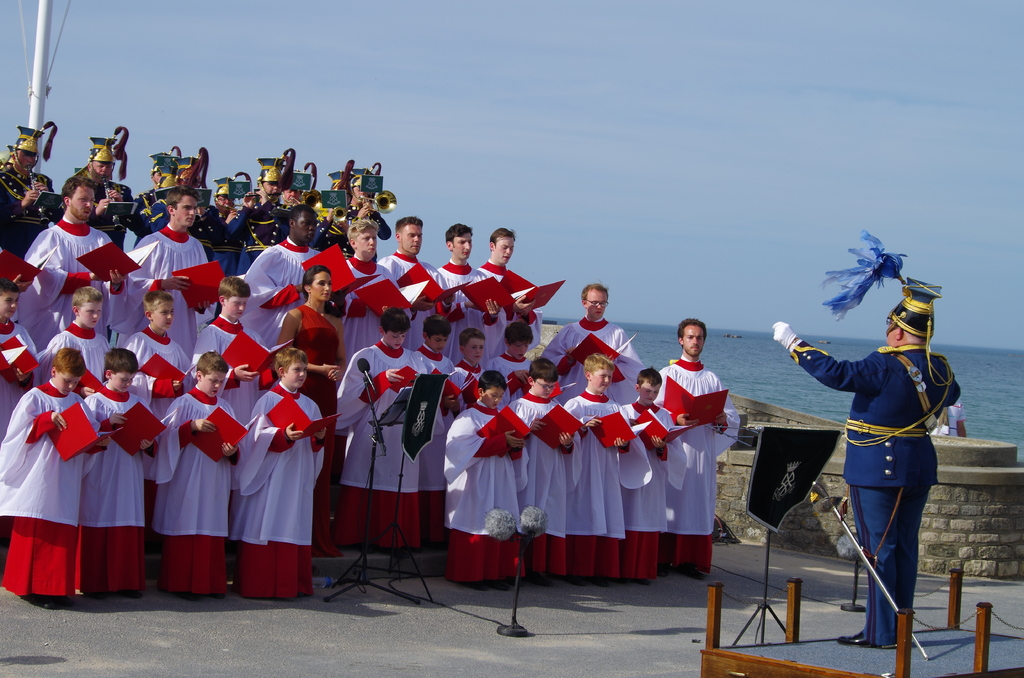Person: (0, 122, 740, 604), (771, 275, 964, 648)
